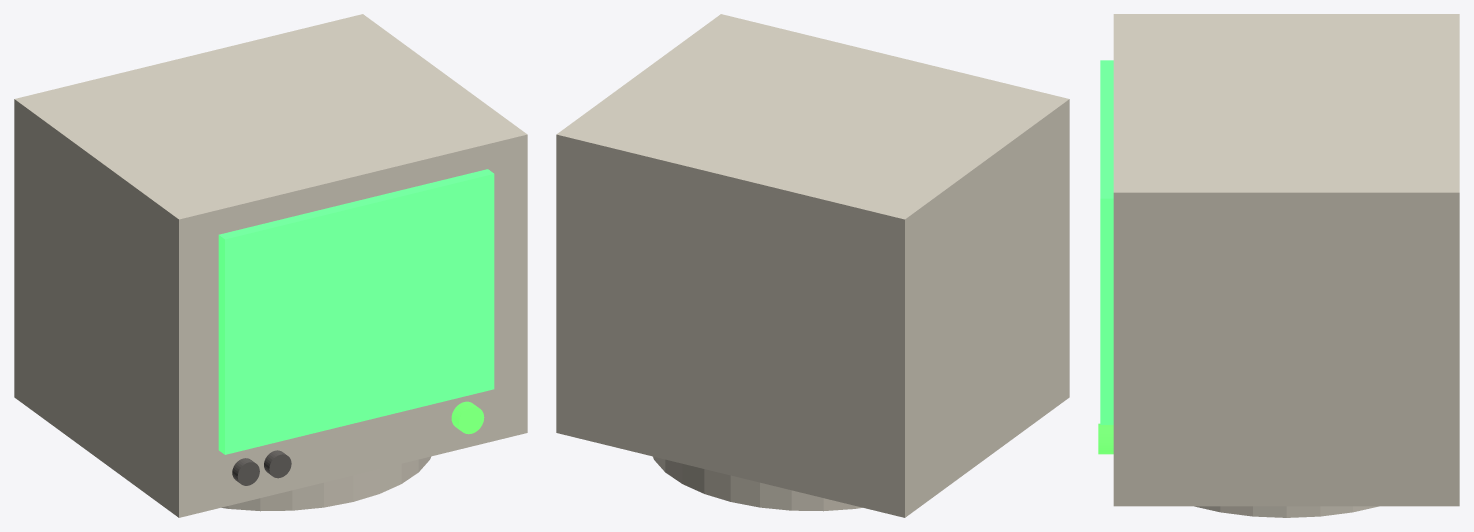
Rendered from crt_monitor.glb.
3 views of the same model, side by side, from view 1: azimuth 30°, elevation 25°; view 2: azimuth 150°, elevation 25°; view 3: azimuth 270°, elevation 25° (orthographic). The views are drawn at different scales.
Parts seen in each view (by area): view 1: CRTHousing, CRTScreen, MonitorBase, PowerButton, Knob1, Knob2; view 2: CRTHousing, MonitorBase; view 3: CRTHousing, CRTScreen, MonitorBase, PowerButton.
Boxes of the visible parts, bbox=[...] form: CRTHousing: bbox=[14, 14, 527, 517]; CRTScreen: bbox=[218, 169, 494, 454]; MonitorBase: bbox=[221, 456, 431, 511]; PowerButton: bbox=[451, 401, 484, 434]; Knob1: bbox=[232, 458, 259, 485]; Knob2: bbox=[264, 450, 291, 478]; CRTHousing: bbox=[556, 14, 1069, 517]; MonitorBase: bbox=[652, 456, 862, 511]; CRTHousing: bbox=[1113, 14, 1459, 506]; CRTScreen: bbox=[1100, 60, 1113, 424]; MonitorBase: bbox=[1194, 506, 1378, 517]; PowerButton: bbox=[1098, 423, 1113, 454].
Bounding box in the file's own units: 1.1 × 0.98 × 0.94.
